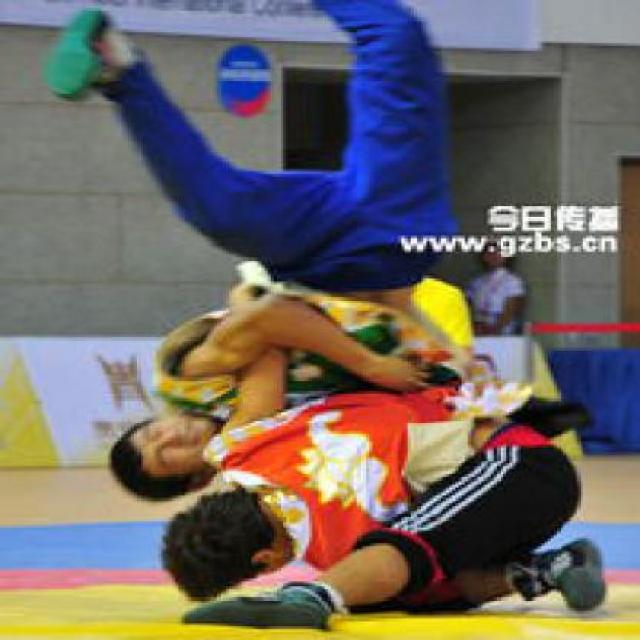fall: (28, 1, 474, 508)
